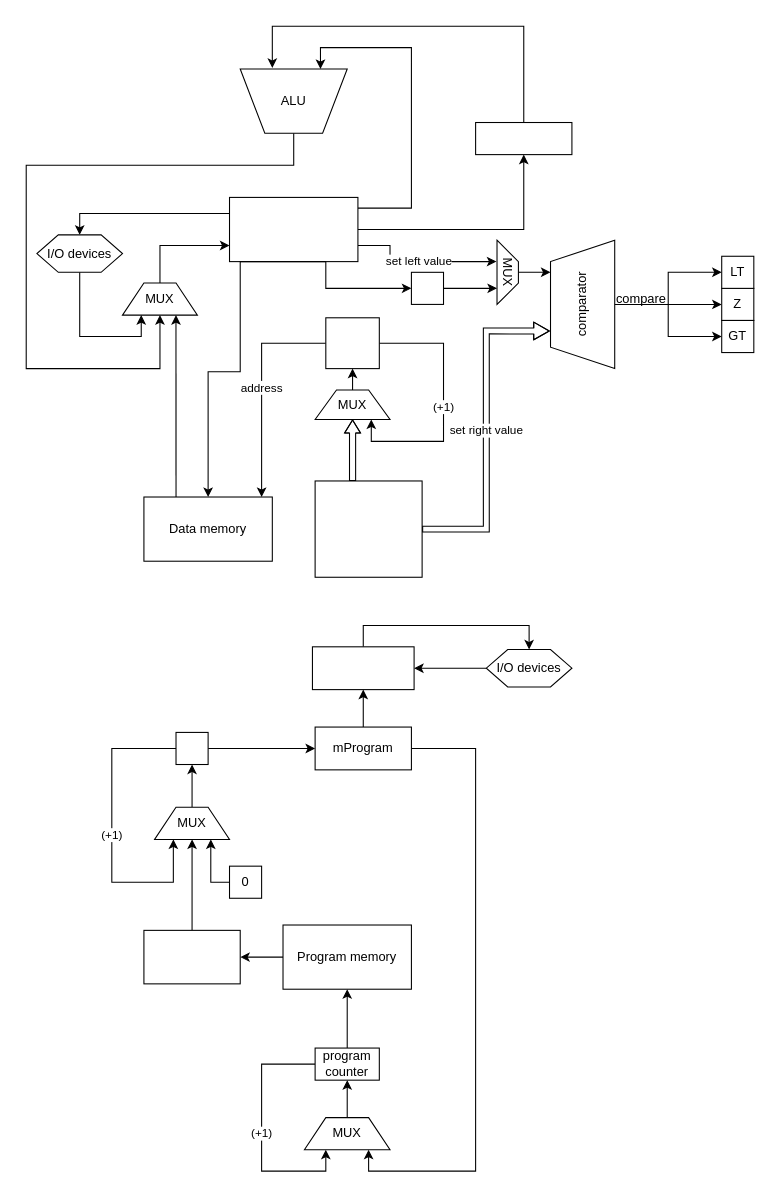
Image size: 773x1198. Some labels were removed from this diagram. The shapes that lost their labels are listed below. From the top down, each one's centre as x and y in pixels, then its label:
At (x=523, y=138): "Buffer register".
At (x=293, y=229): "ACCUMULATOR".
At (x=427, y=287): "data count".
At (x=352, y=343): "Address register".
At (x=368, y=528): "Control unit".
At (x=362, y=668): "DataPath".
At (x=191, y=748): "mPC".
At (x=191, y=956): "opcode->mPC".
